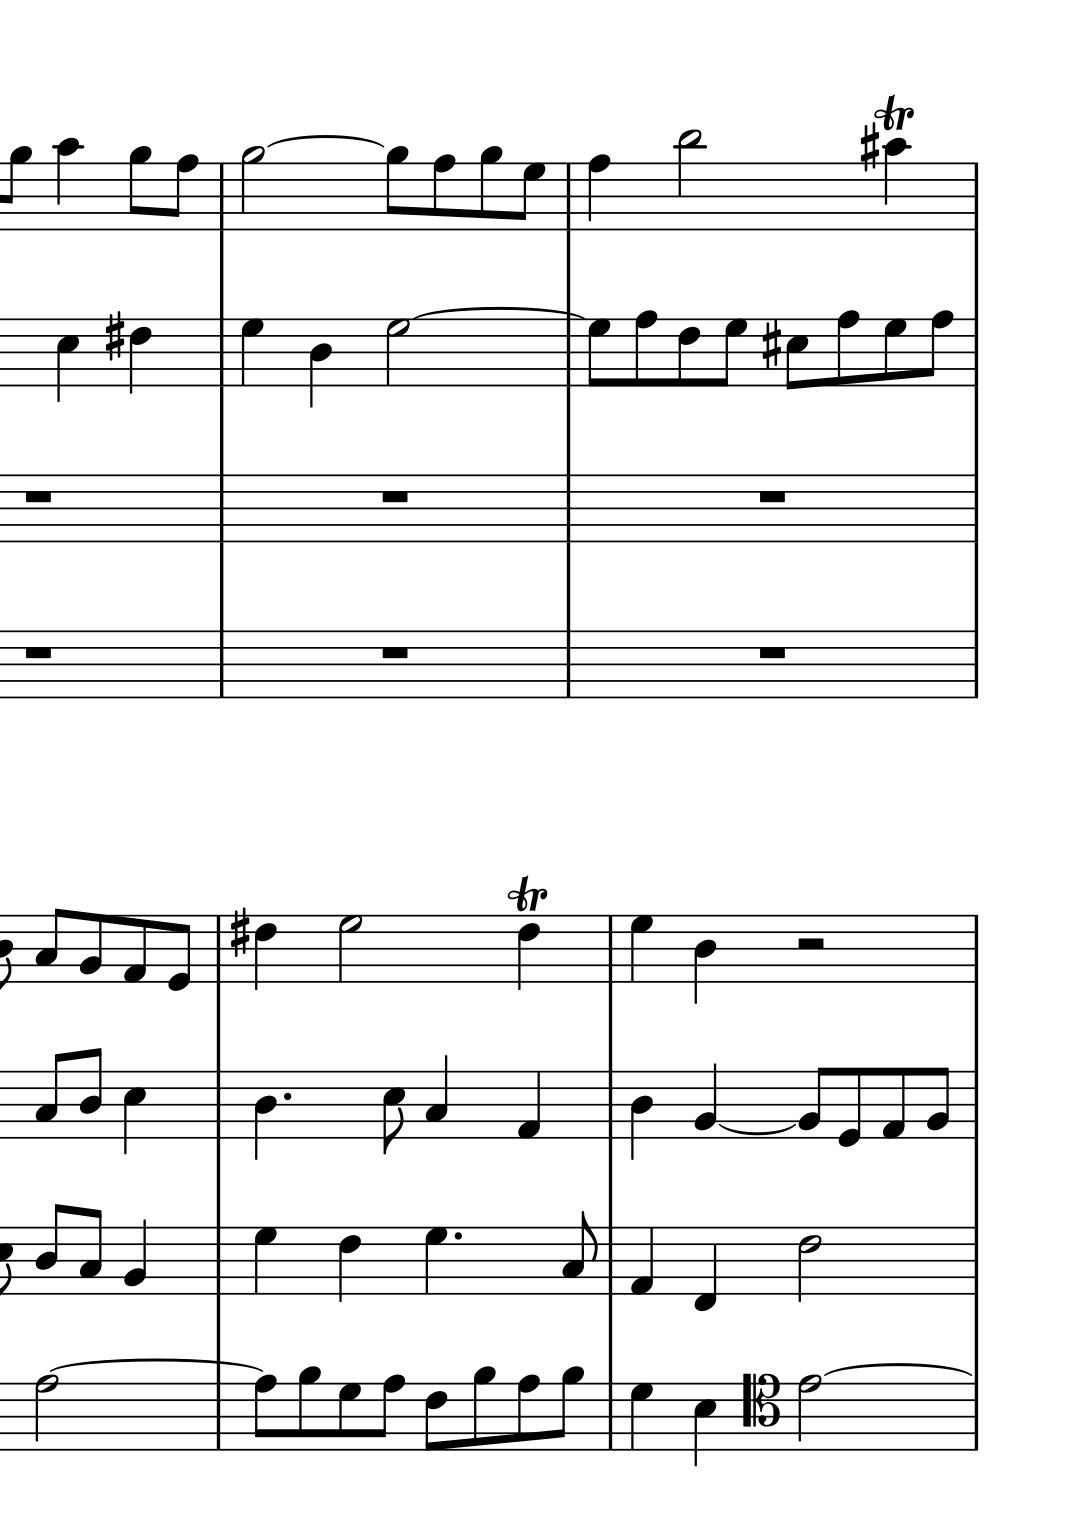2_11: (674, 127, 702, 233)
2_6: (796, 1226, 821, 1304)
2_7: (382, 317, 411, 390), (335, 912, 362, 984)
2_8: (32, 1373, 60, 1453), (796, 1373, 821, 1453)
2_9: (238, 145, 266, 234)
4_-1: (692, 1225, 718, 1314)
4_1: (515, 1069, 542, 1141), (628, 1225, 655, 1297)
4_10: (54, 136, 79, 235), (882, 139, 908, 231)
4_2: (122, 1216, 150, 1297), (692, 1062, 718, 1140)
4_3: (424, 1055, 449, 1141)
4_4: (251, 1069, 278, 1162), (628, 1070, 655, 1161), (306, 316, 332, 408), (692, 913, 716, 1005)
4_5: (51, 314, 82, 405), (120, 1069, 147, 1156), (691, 1382, 716, 1470)
4_6: (126, 314, 155, 393), (335, 1225, 362, 1304), (515, 914, 540, 993), (252, 913, 276, 993)
4_7: (238, 316, 266, 387), (251, 1225, 279, 1297), (628, 1381, 655, 1452), (628, 913, 653, 984), (422, 1225, 448, 1297)
4_8: (584, 153, 611, 233)
8_0: (835, 1065, 861, 1150), (166, 914, 192, 993)
8_1: (879, 1065, 906, 1141), (122, 912, 147, 984)
8_2: (795, 1066, 828, 1140), (925, 1066, 950, 1140), (78, 911, 103, 986)
8_3: (559, 1210, 597, 1297), (33, 1052, 65, 1141), (33, 906, 65, 986), (77, 1207, 103, 1298)
8_4: (34, 1202, 67, 1297), (77, 1046, 103, 1141)
8_5: (379, 1069, 404, 1155), (784, 317, 809, 390)
8_6: (676, 316, 701, 389), (423, 1381, 448, 1453)
8_7: (713, 316, 747, 388), (514, 161, 545, 231), (881, 317, 908, 387), (586, 317, 611, 388), (335, 1381, 361, 1452)
8_8: (164, 153, 199, 233), (919, 309, 954, 388), (372, 1374, 404, 1453), (632, 310, 659, 389), (835, 309, 861, 388), (251, 1373, 277, 1453), (430, 153, 456, 233), (515, 1373, 540, 1453)
8_9: (551, 1365, 584, 1452), (1, 144, 32, 231), (126, 145, 152, 233), (296, 1365, 321, 1453), (383, 145, 409, 231), (478, 145, 504, 231), (471, 1365, 496, 1453)
Rests1: (20, 485, 55, 506), (755, 486, 790, 506), (20, 641, 55, 661), (378, 486, 411, 506), (756, 641, 789, 661), (378, 642, 411, 661)
Rests2: (792, 936, 828, 954)
Sharp: (101, 307, 127, 364), (760, 317, 782, 371), (228, 907, 250, 957), (859, 122, 879, 174)
Single_barline: (210, 473, 231, 542), (559, 473, 579, 542), (212, 163, 231, 230), (560, 321, 580, 387), (212, 318, 230, 386), (209, 1382, 228, 1450), (601, 1071, 619, 1138), (601, 1382, 619, 1449), (967, 163, 984, 230), (560, 164, 577, 231), (212, 630, 229, 698), (601, 1228, 618, 1295), (560, 631, 577, 698), (965, 631, 983, 698), (602, 915, 619, 982), (209, 1228, 227, 1294), (967, 475, 983, 544), (209, 915, 226, 983), (968, 915, 984, 983), (209, 1071, 226, 1138), (968, 318, 983, 387), (968, 1071, 983, 1139), (968, 1228, 983, 1294), (968, 1385, 983, 1450)
Slur: (49, 1355, 266, 1371), (411, 305, 583, 320), (816, 1361, 969, 1374), (259, 133, 385, 148), (718, 1123, 795, 1135)
Tensor_Cclef: (739, 1373, 780, 1451)
Trill: (506, 872, 549, 914), (877, 92, 916, 136)
dot: (279, 1088, 295, 1104), (450, 1229, 463, 1242)
